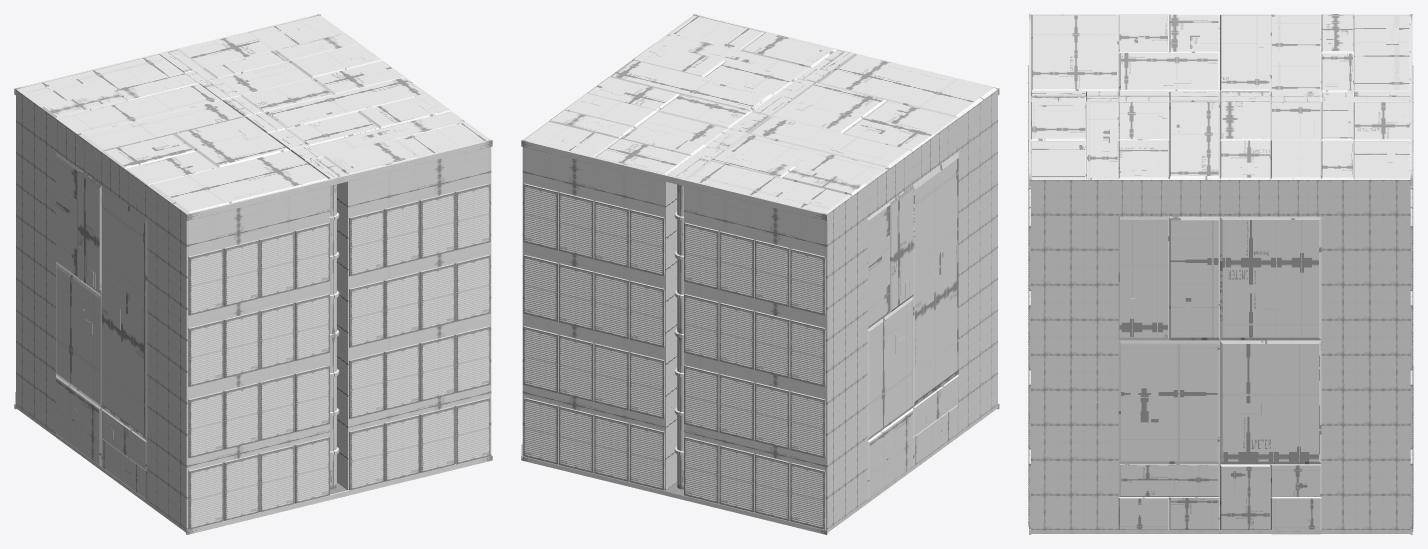
File: DateCube_02.fbx
3 renders of one model, left to right at view 1: azimuth 30°, elevation 25°; view 2: azimuth 150°, elevation 25°; view 3: azimuth 270°, elevation 25°, orthographic. The views are drawn at different scales.
Visible parts, largest first — view 1: DataCube_02; view 2: DataCube_02; view 3: DataCube_02.
Part boxes in pixels (<box>): DataCube_02: <box>14,14,492,534</box>; DataCube_02: <box>521,14,999,534</box>; DataCube_02: <box>1028,14,1413,534</box>.
Size of the model in its own units: 2020 by 2020 by 1973.
Materials: 1 (1 with a texture image).
